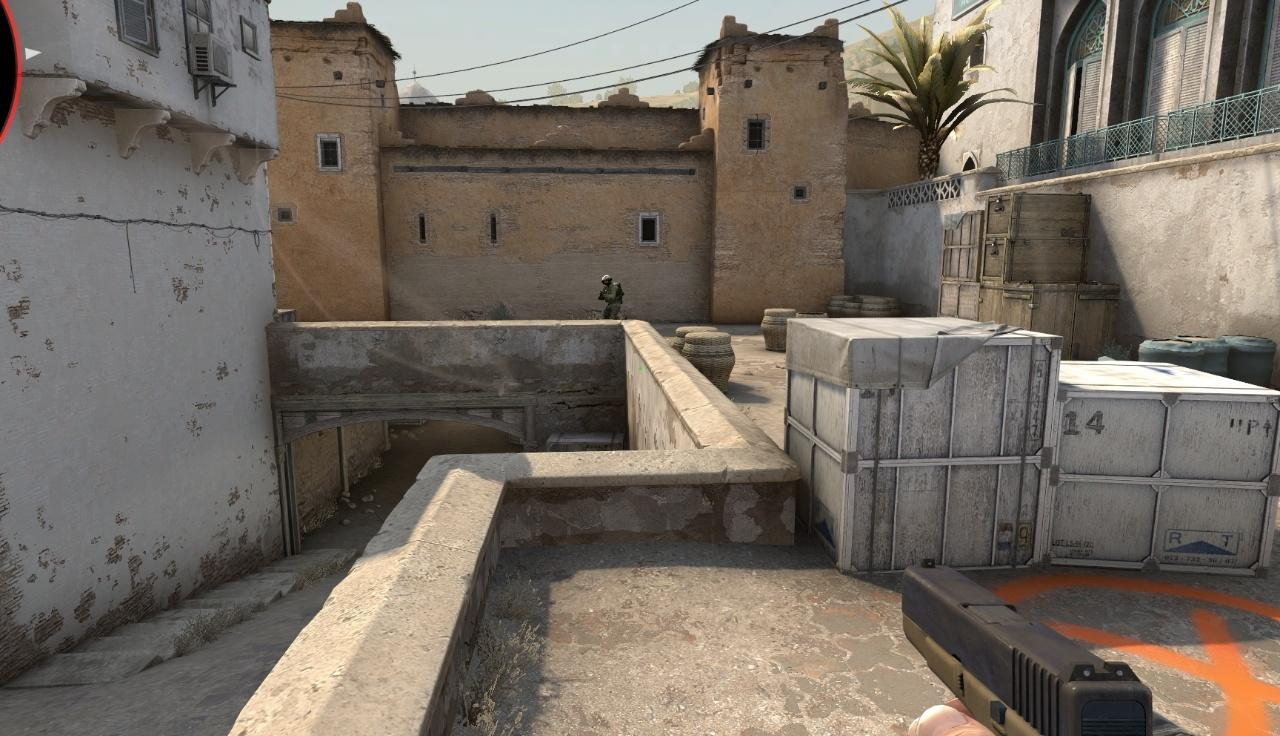ct: (599, 275, 622, 320)
cthead: (601, 276, 611, 287)
pistol: (903, 558, 1160, 736)
